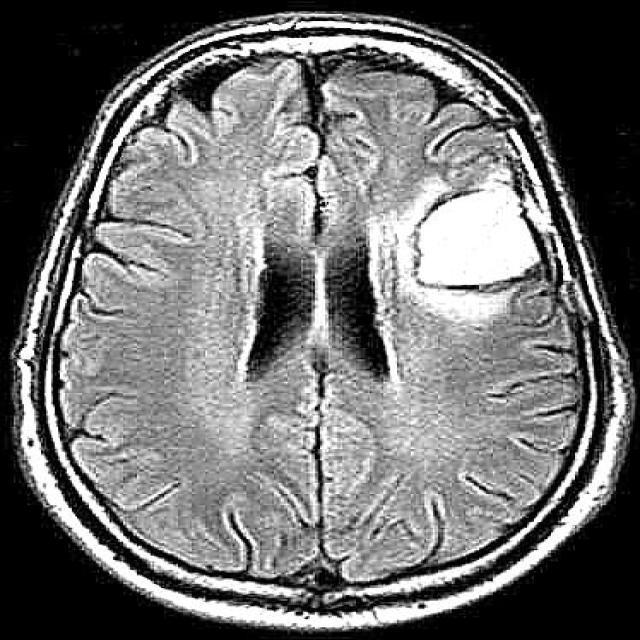brain tumor: (416, 189, 541, 284)
